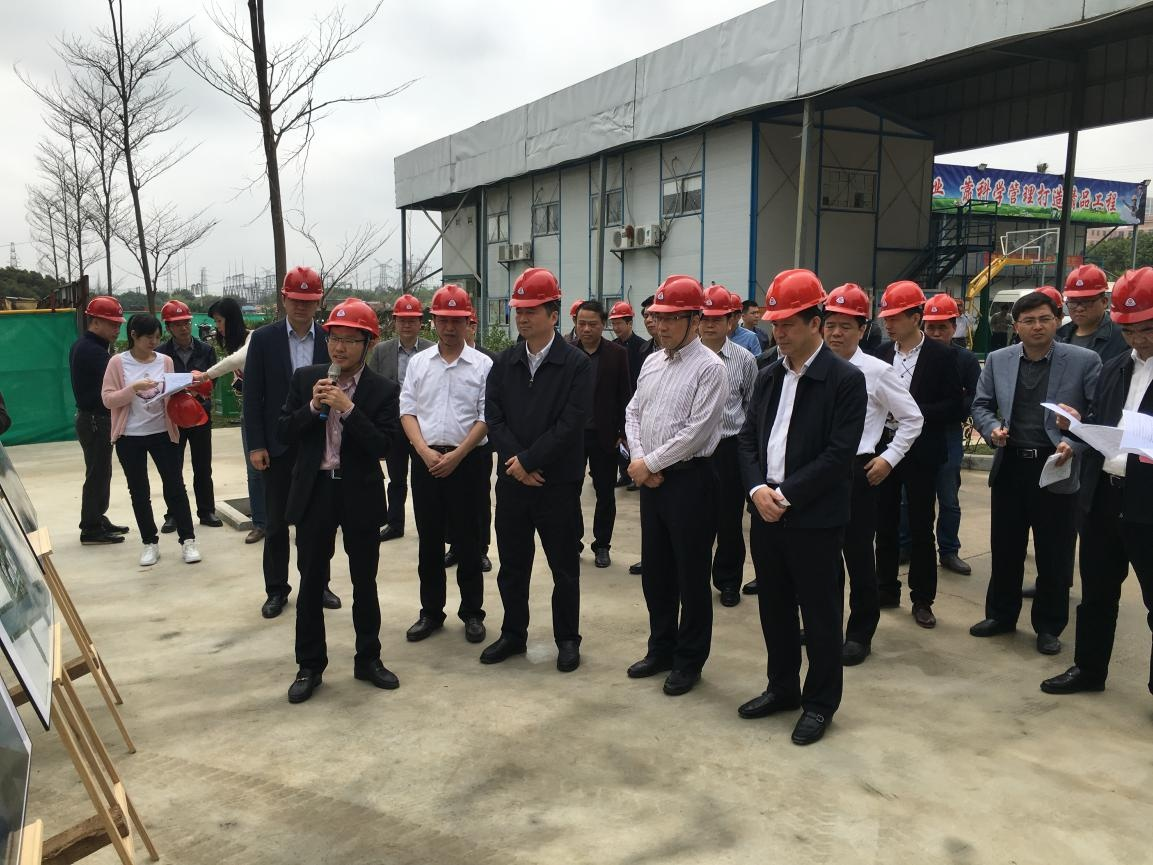none: (1007, 290, 1061, 348), (125, 312, 163, 355), (207, 295, 243, 339), (572, 299, 606, 342), (639, 289, 657, 339), (739, 299, 761, 328), (998, 301, 1009, 314)
red: (757, 260, 824, 359), (646, 272, 704, 348), (503, 267, 564, 337), (1108, 268, 1153, 360), (323, 298, 380, 368), (821, 282, 869, 357), (1061, 260, 1112, 329), (876, 276, 925, 344), (430, 281, 473, 349), (280, 264, 326, 321), (917, 290, 960, 345), (695, 283, 732, 343), (83, 295, 123, 341), (394, 292, 424, 339), (160, 300, 195, 340), (607, 298, 637, 339), (724, 292, 742, 328)
